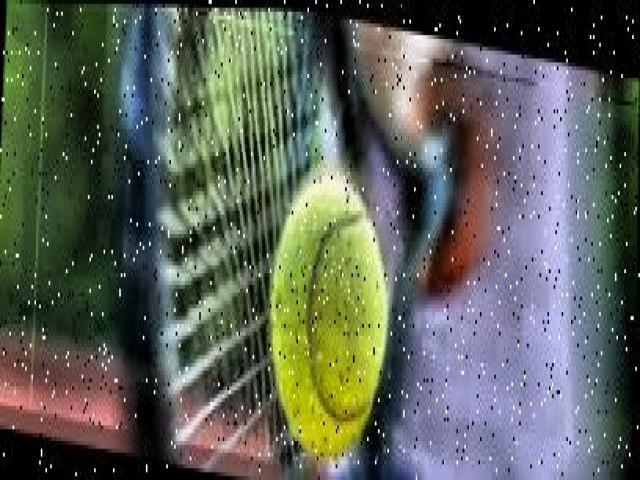tennis-ball: (271, 172, 390, 455)
